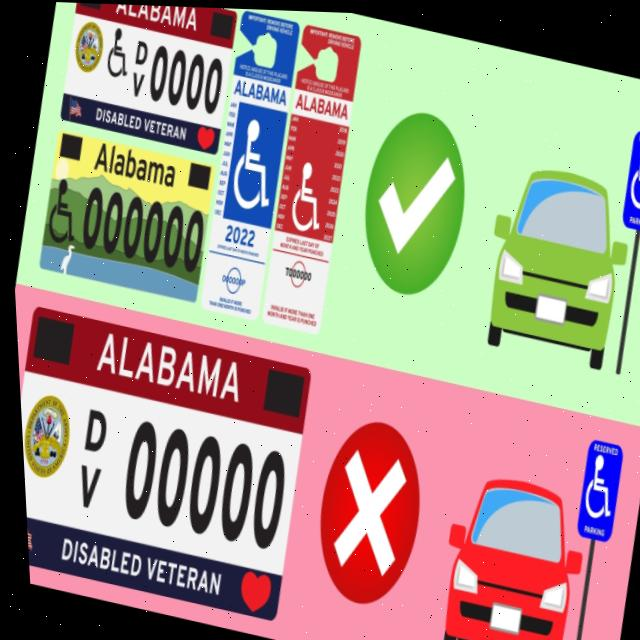symbol_of_access: (218, 108, 290, 219), (279, 116, 340, 239), (38, 169, 85, 248), (102, 23, 135, 82)
